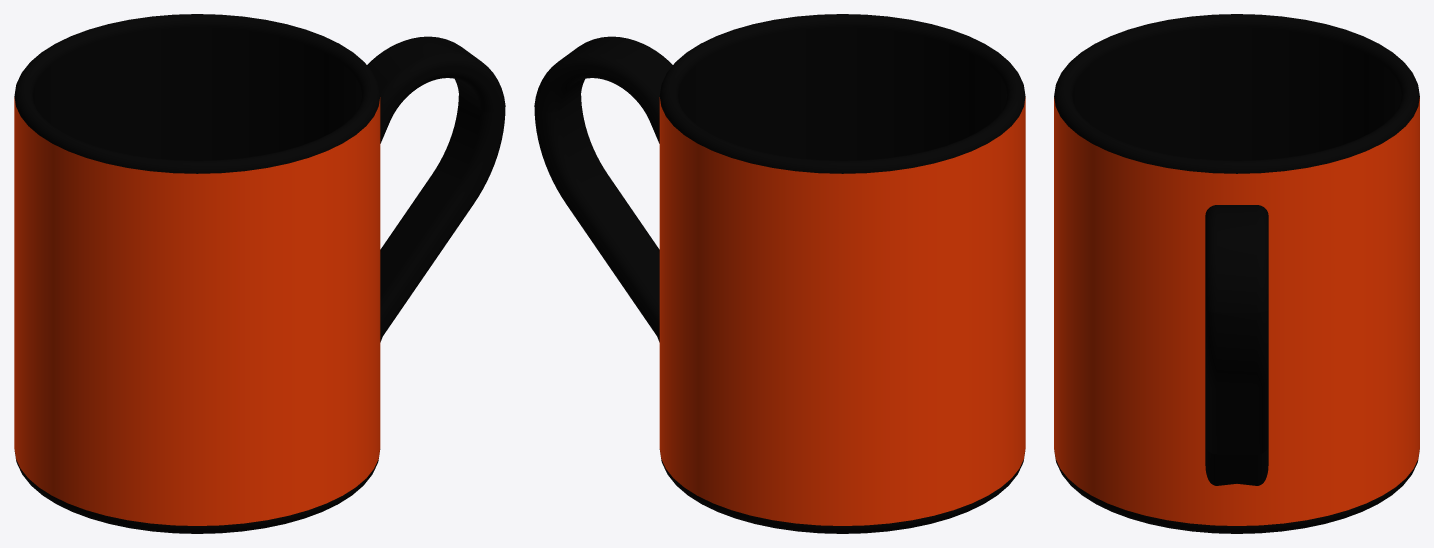
File: mug_18_origin_gt_7.dae
3 renders of one model, left to right at view 1: azimuth 30°, elevation 25°; view 2: azimuth 150°, elevation 25°; view 3: azimuth 270°, elevation 25°, orthographic.
Visible parts, largest first — view 1: Mug (×3), group_0; view 2: Mug (×3), group_0; view 3: Mug (×3), group_0.
Boxes of the visible parts, x1,y1,x2,y2 form: Mug (×3): (14, 14, 380, 533); group_0: (367, 36, 505, 342); Mug (×3): (659, 14, 1025, 533); group_0: (534, 36, 672, 342); Mug (×3): (1054, 14, 1419, 533); group_0: (1205, 205, 1268, 485).
Bounding box in the file's own units: 4.52 × 3.15 × 3.54.
